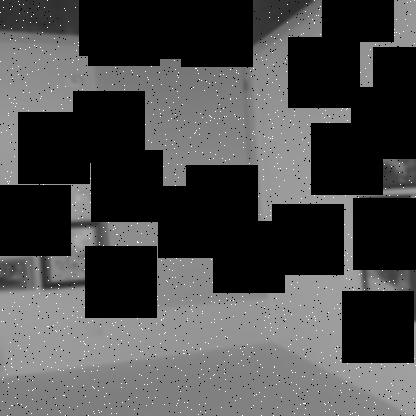Porte: (87, 35, 270, 314)
